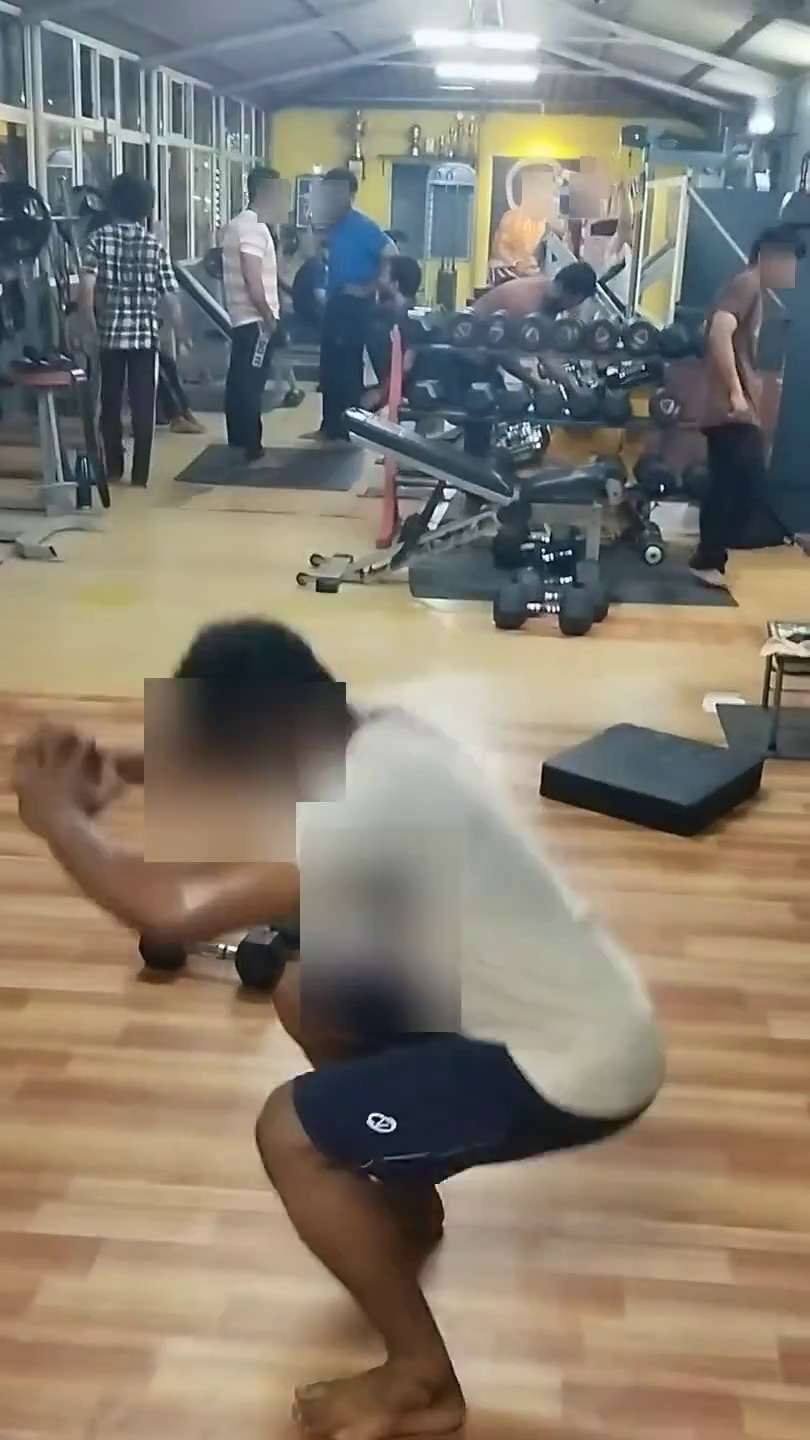squat_incorrect: (0, 661, 617, 1440)
